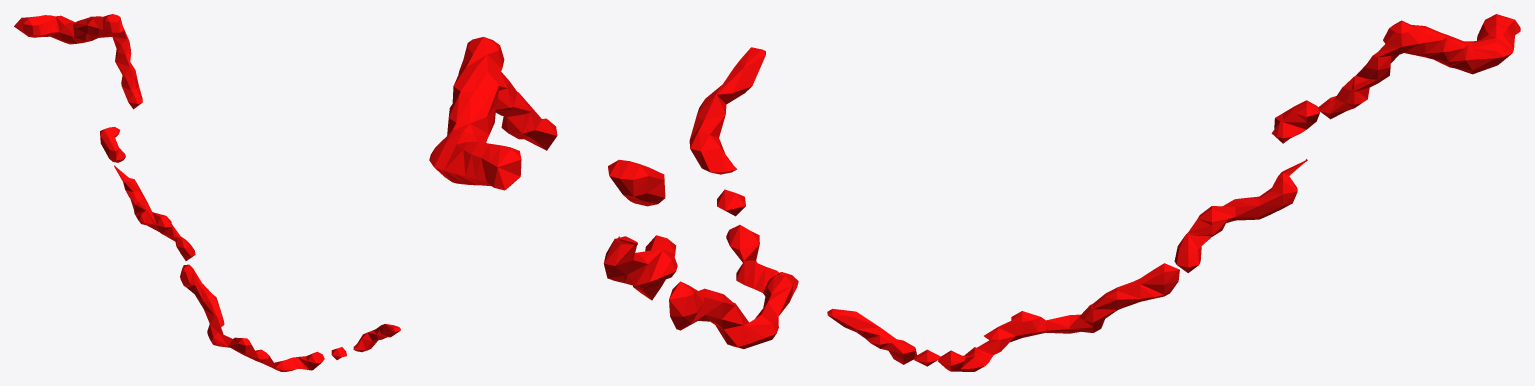
The model's file is tatB_coarse.dae.
The picture shows the model from 3 angles, left to right: view 1: azimuth 30°, elevation 25°; view 2: azimuth 150°, elevation 25°; view 3: azimuth 270°, elevation 25°; orthographic projection. The views are drawn at different scales.
Visible parts, largest first — view 1: tatB; view 2: tatB; view 3: tatB.
Part boxes in pixels (box(x1,y1,x2,y2)): tatB: box(14, 14, 400, 371); tatB: box(429, 37, 798, 348); tatB: box(827, 14, 1520, 371).
Bounding box in the file's own units: 92.57 × 156 × 294.
